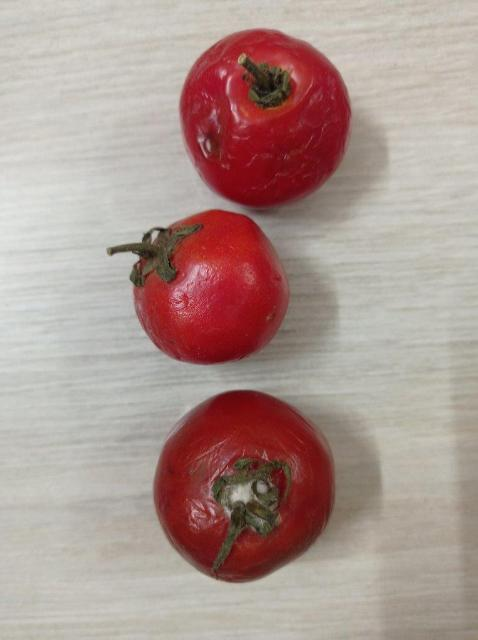defect: (146, 384, 342, 589), (175, 26, 352, 210)
